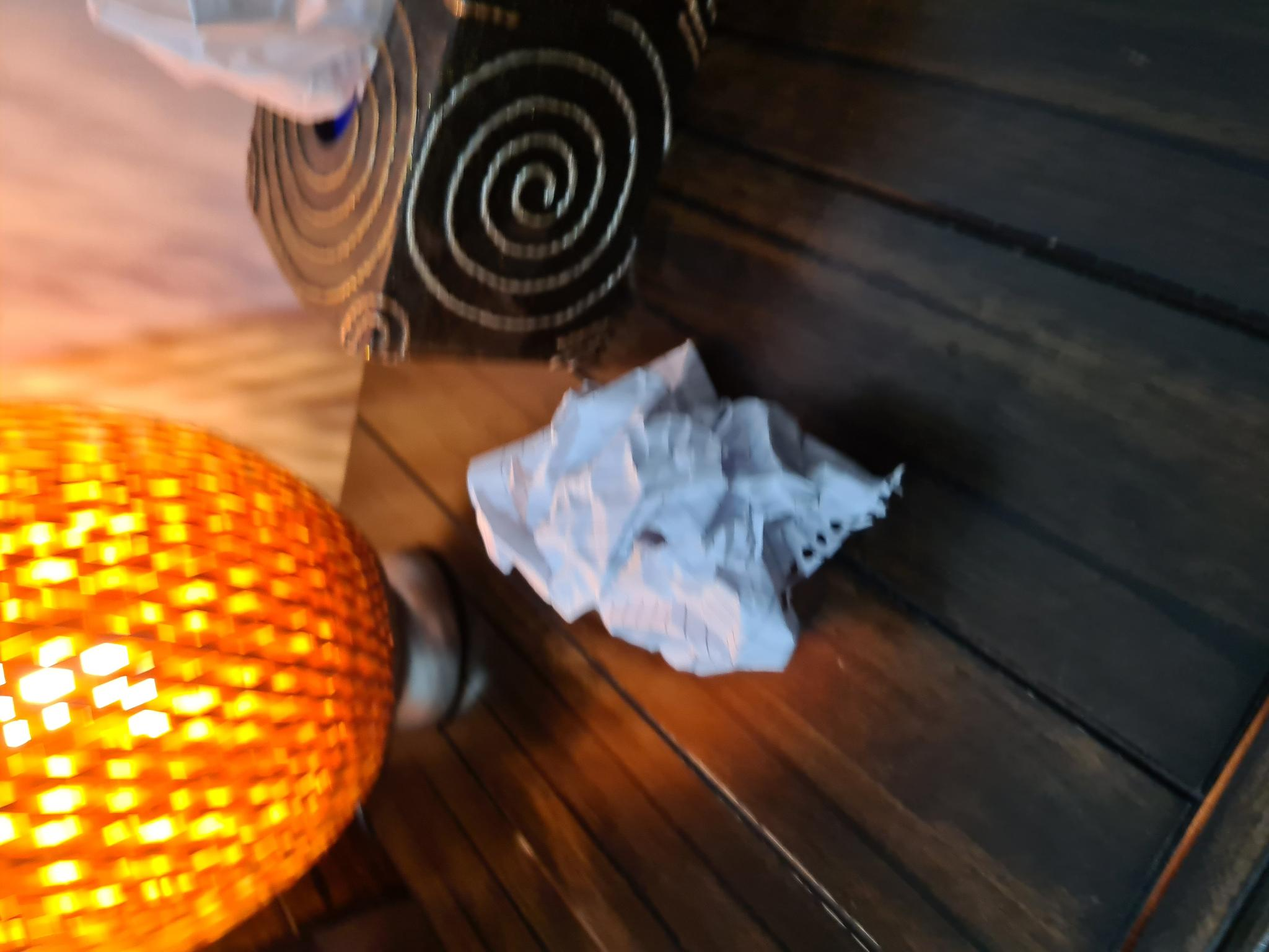Kertas: (264, 460, 624, 905)
